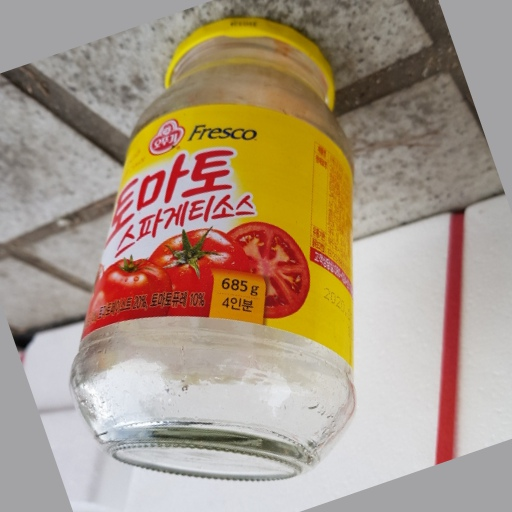Glass_5: (70, 19, 358, 481)
